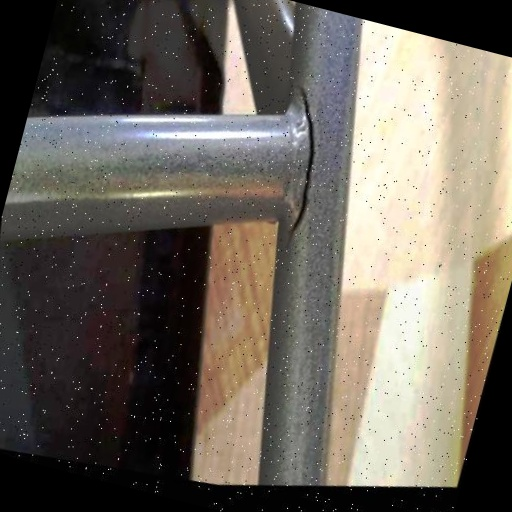crack: (235, 60, 358, 261)
